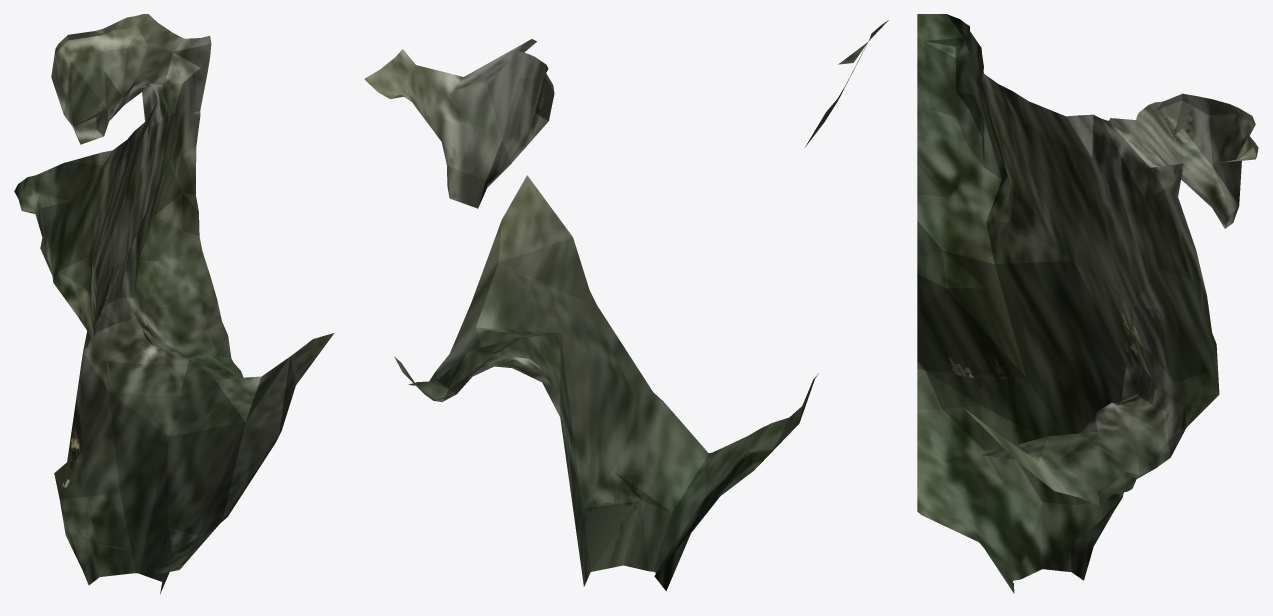
3 views of the same model, side by side, from view 1: azimuth 30°, elevation 25°; view 2: azimuth 150°, elevation 25°; view 3: azimuth 270°, elevation 25° (orthographic). The views are drawn at different scales.
Bounding box in the file's own units: 2.01 × 2.95 × 1.86.
3 materials, 3 textured.
